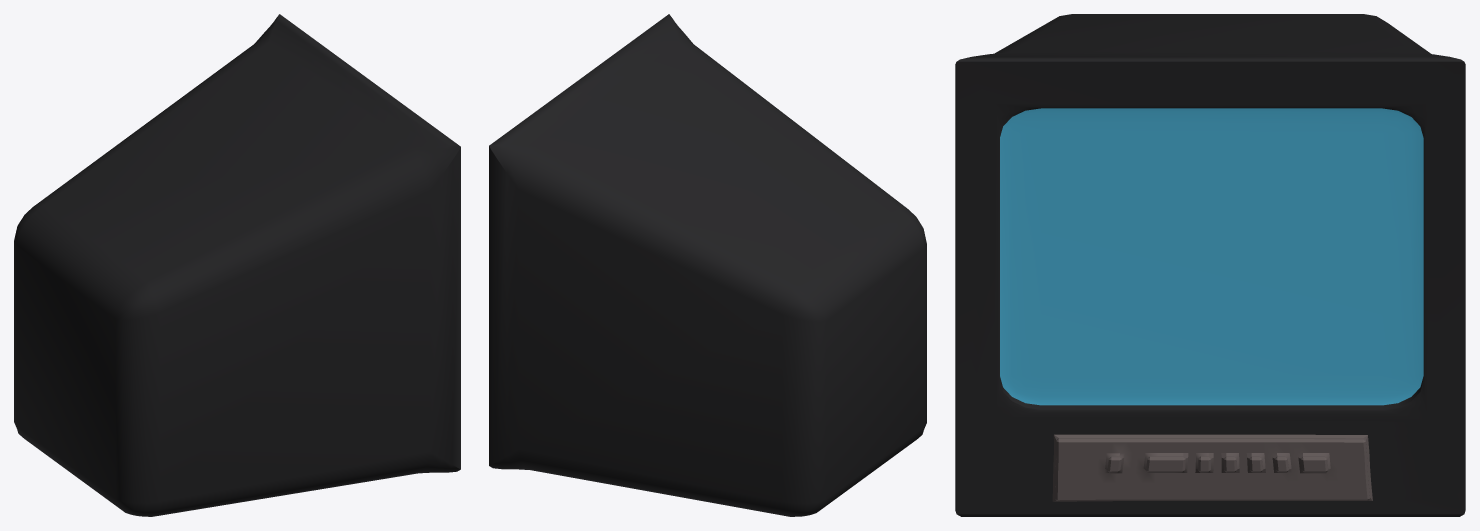
The picture shows the model from 3 angles, left to right: view 1: azimuth 30°, elevation 25°; view 2: azimuth 150°, elevation 25°; view 3: azimuth 270°, elevation 25°; orthographic projection. The views are drawn at different scales.
Visible parts, largest first — view 1: Cube; view 2: Cube; view 3: Cube.
Boxes of the visible parts, x1,y1,x2,y2 form: Cube: [14, 14, 460, 516]; Cube: [489, 14, 926, 516]; Cube: [955, 14, 1465, 516].
Bounding box in the file's own units: 382 × 393 × 389.
